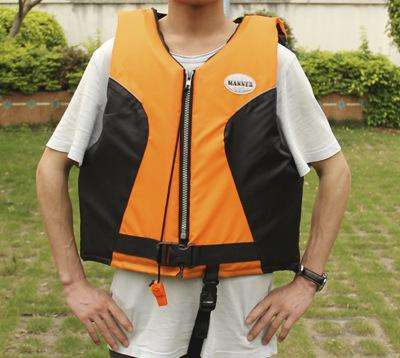reflective_clothes: (83, 2, 314, 282)
